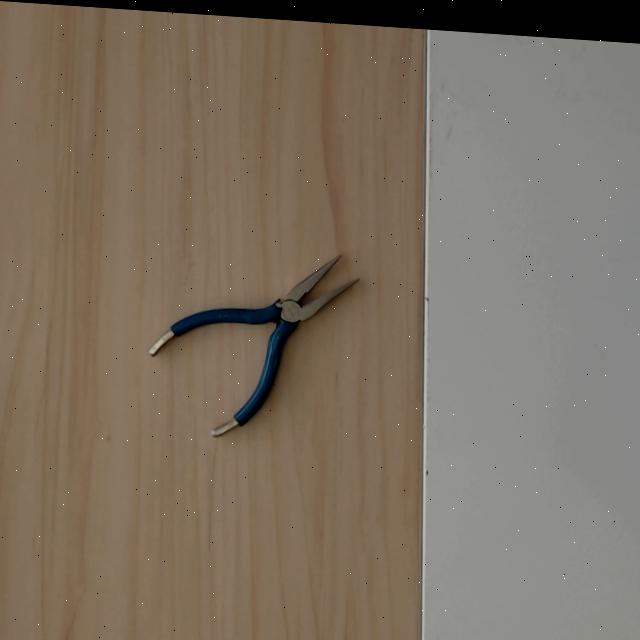Tang-Jepit-Biru: (139, 210, 385, 444)
